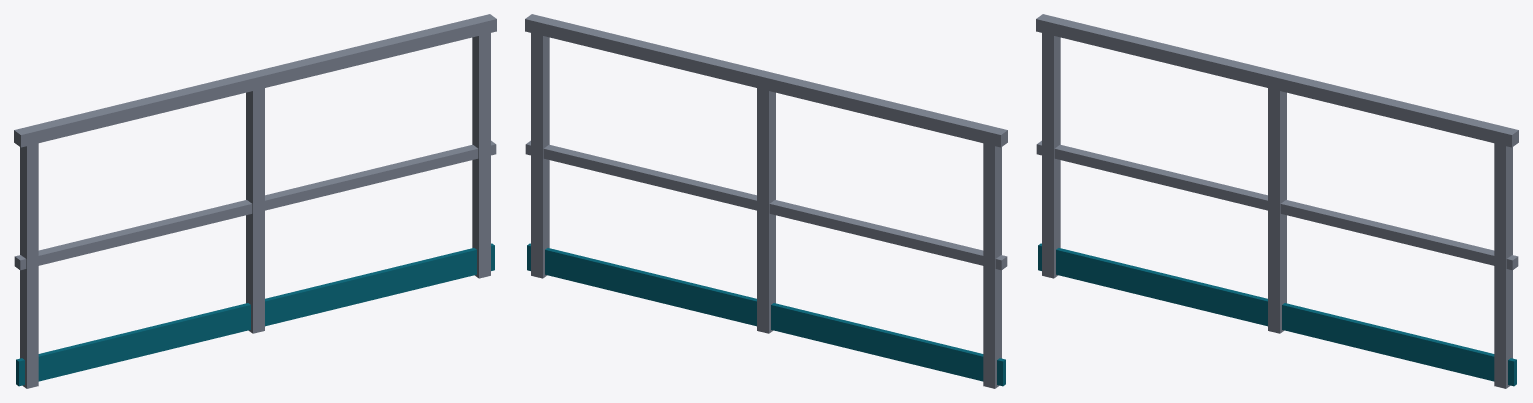
The model's file is SM_Railing_2m.glb.
3 views of the same model, side by side, from view 1: azimuth 30°, elevation 25°; view 2: azimuth 150°, elevation 25°; view 3: azimuth 330°, elevation 25° (orthographic).
Visible parts, largest first — view 1: SM_Railing_2m-col; view 2: SM_Railing_2m-col; view 3: SM_Railing_2m-col.
Part boxes in pixels (x1=…): SM_Railing_2m-col: x1=14, y1=14, x2=496, y2=388; SM_Railing_2m-col: x1=525, y1=14, x2=1007, y2=388; SM_Railing_2m-col: x1=1036, y1=14, x2=1518, y2=388.
Bounding box in the file's own units: 2 × 1.02 × 0.05.
